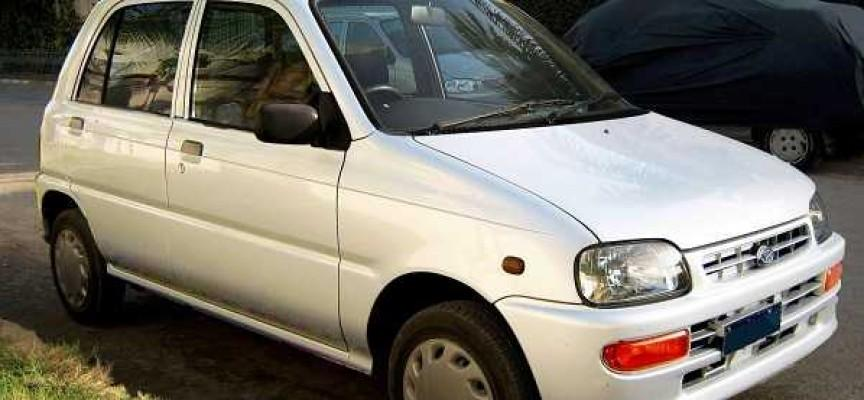windshield: (306, 0, 651, 143)
